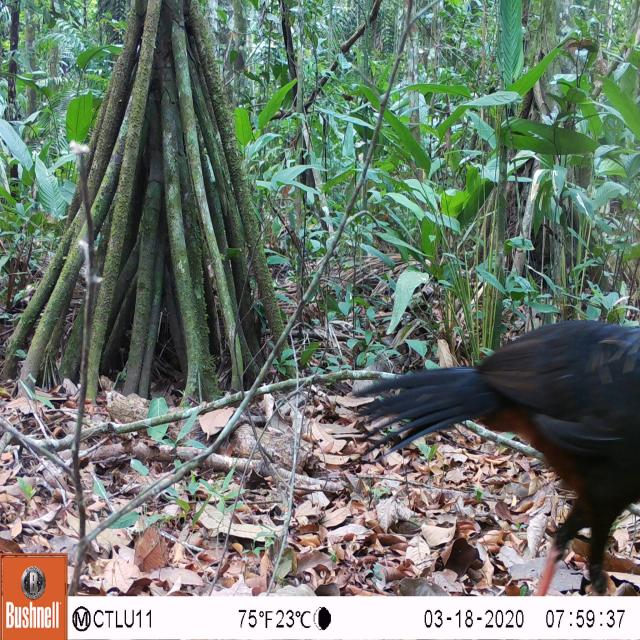Salvins Curassow: (344, 278, 640, 591)
